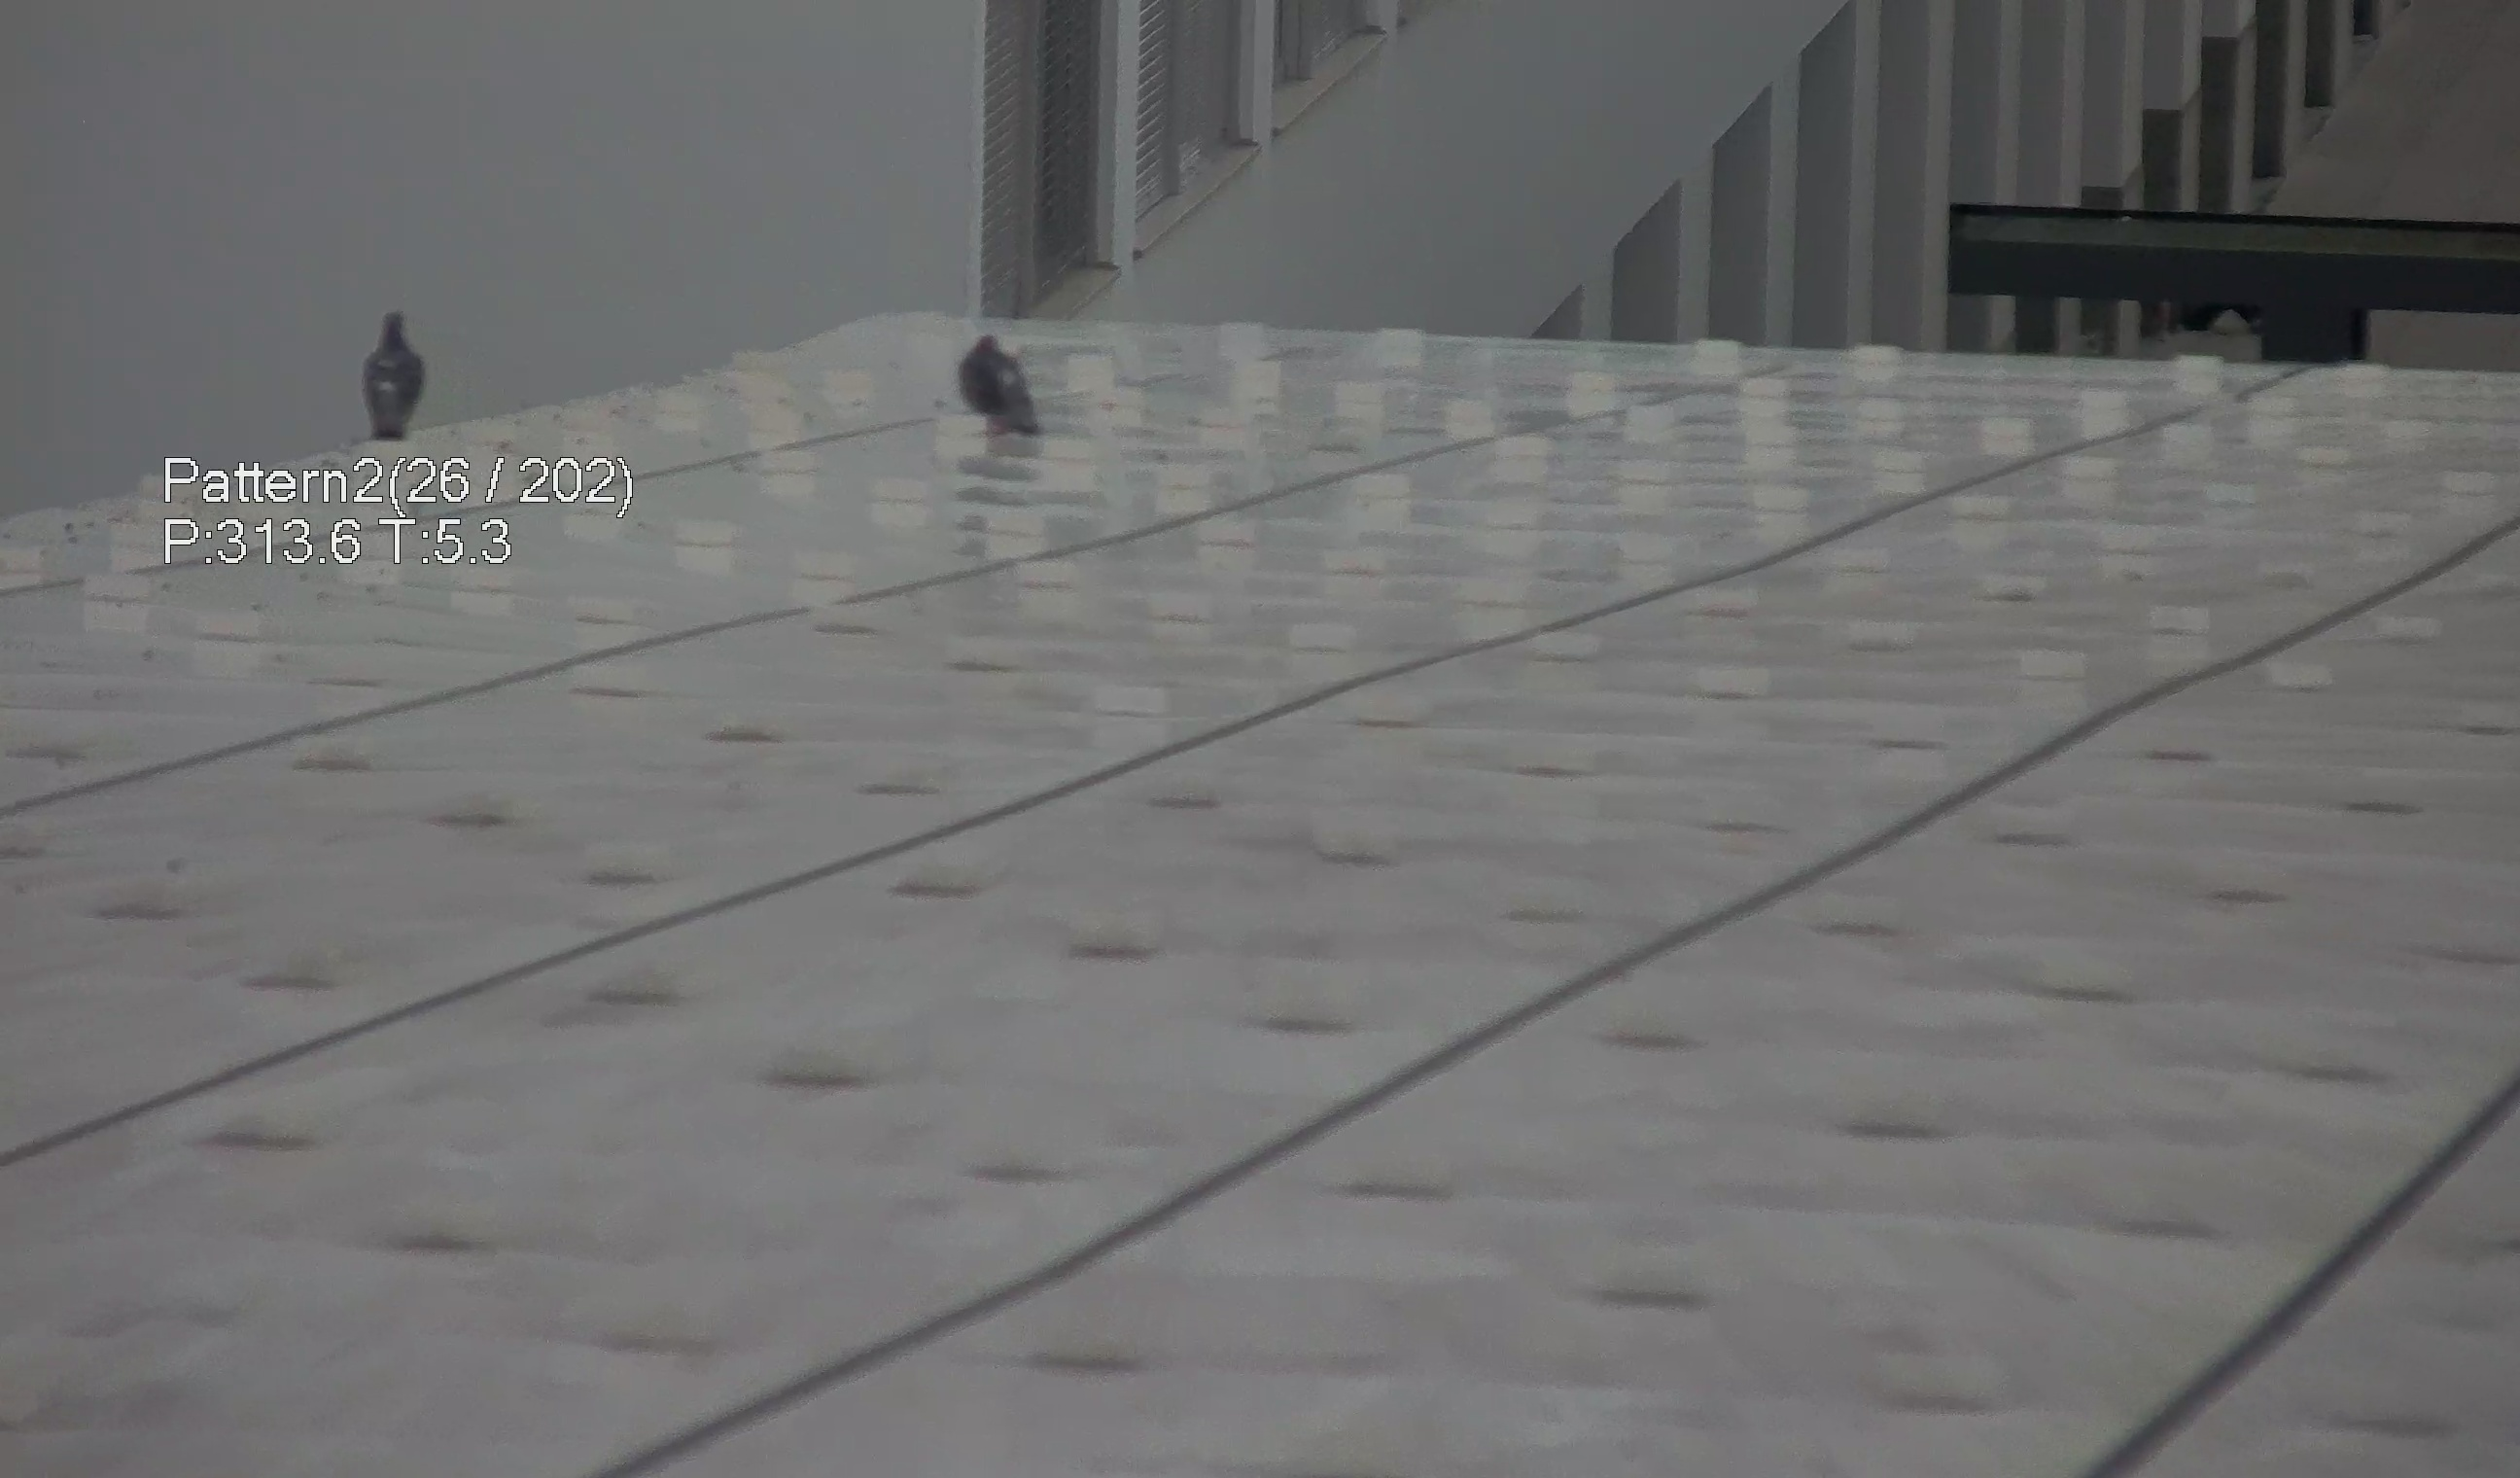Pigeon: (334, 299, 426, 454), (948, 313, 1041, 436)
